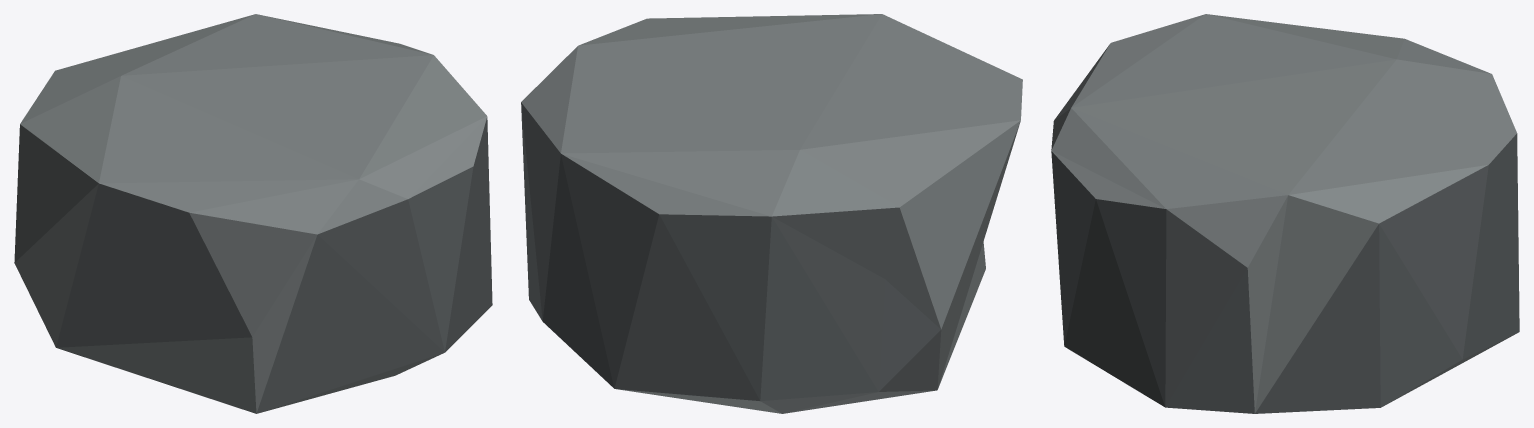
Rendered from MCastle_StepsRock_Circle.FBX.
3 renders of one model, left to right at view 1: azimuth 30°, elevation 25°; view 2: azimuth 150°, elevation 25°; view 3: azimuth 270°, elevation 25°, orthographic. The views are drawn at different scales.
Parts seen in each view (by area): view 1: MCastle_StepsRock_Circle_LOD0; view 2: MCastle_StepsRock_Circle_LOD0; view 3: MCastle_StepsRock_Circle_LOD0.
Part boxes in pixels (bbox=[...]): MCastle_StepsRock_Circle_LOD0: bbox=[14, 14, 492, 413]; MCastle_StepsRock_Circle_LOD0: bbox=[521, 14, 1022, 413]; MCastle_StepsRock_Circle_LOD0: bbox=[1051, 14, 1519, 413].
Size of the model in its own units: 1.3 by 0.7323 by 1.28.
